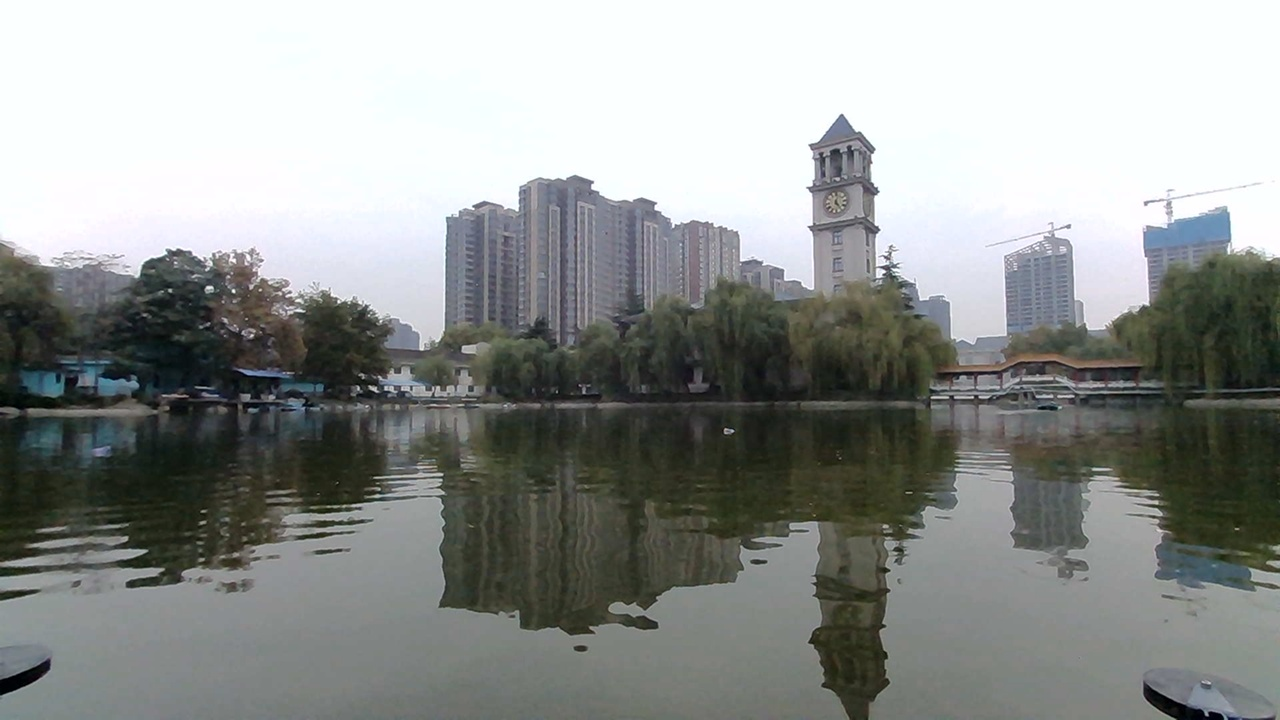bottle: (85, 428, 134, 465), (707, 412, 750, 441)
